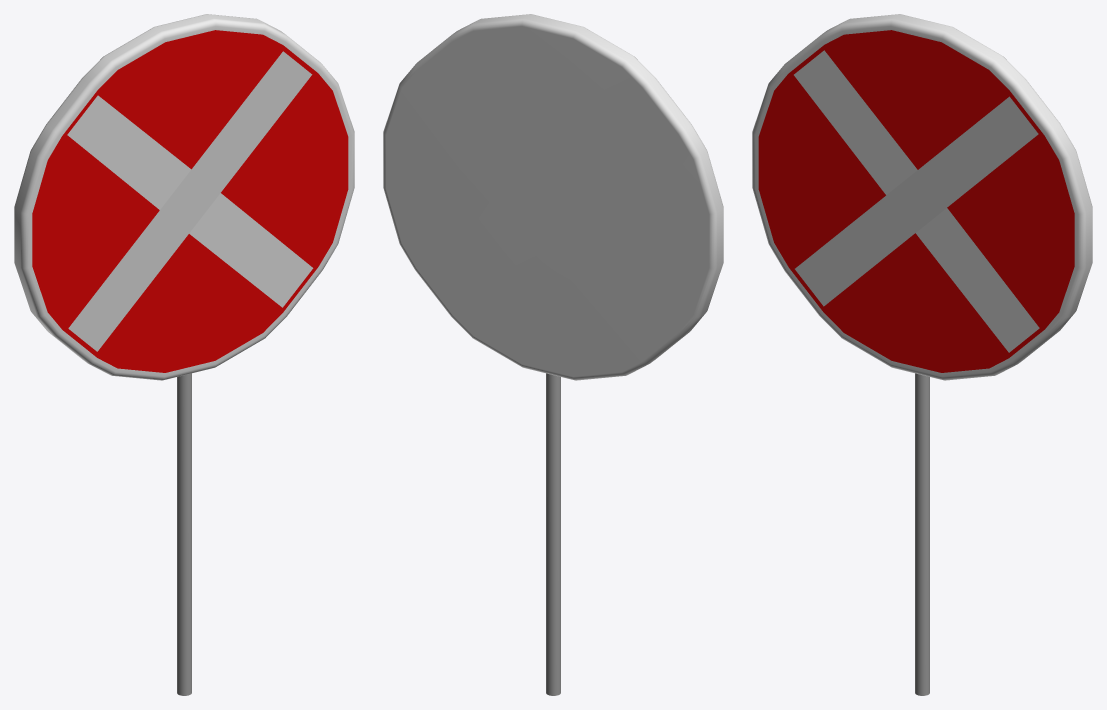
Rendered from Tabela2.fbx.
3 renders of one model, left to right at view 1: azimuth 30°, elevation 25°; view 2: azimuth 150°, elevation 25°; view 3: azimuth 330°, elevation 25°, orthographic.
Visible parts, largest first — view 1: Tabela2; view 2: Tabela2; view 3: Tabela2.
Part boxes in pixels (x1,y1,x2,y2): Tabela2: (14, 14, 354, 695); Tabela2: (383, 14, 723, 695); Tabela2: (752, 14, 1092, 695).
Bounding box in the file's own units: 73.52 × 141 × 4.44.
